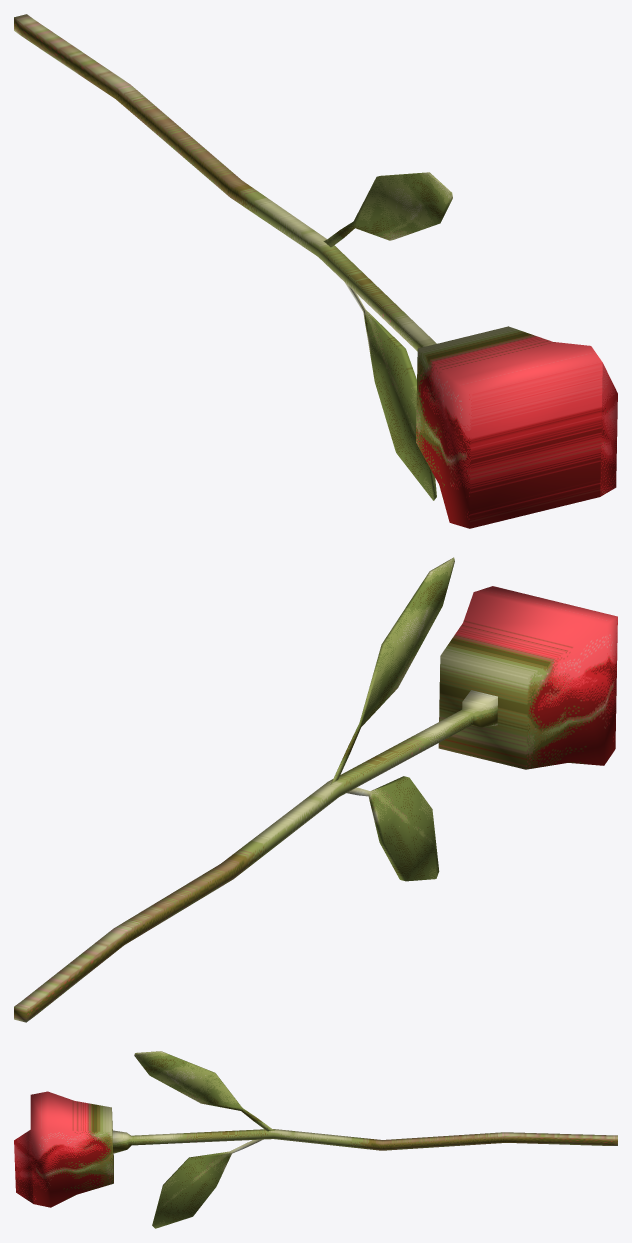
File: Rose.glb
The picture shows the model from 3 angles, top to bottom: view 1: azimuth 30°, elevation 25°; view 2: azimuth 150°, elevation 25°; view 3: azimuth 270°, elevation 25°; orthographic projection. The views are drawn at different scales.
Parts seen in each view (by area): view 1: Rose; view 2: Rose; view 3: Rose.
Part boxes in pixels (x1=…): Rose: x1=14, y1=14, x2=617, y2=528; Rose: x1=14, y1=557, x2=617, y2=1022; Rose: x1=14, y1=1051, x2=617, y2=1228.
Size of the model in its own units: 0.2212 by 0.494 by 1.53.
4 materials, 4 textured.
